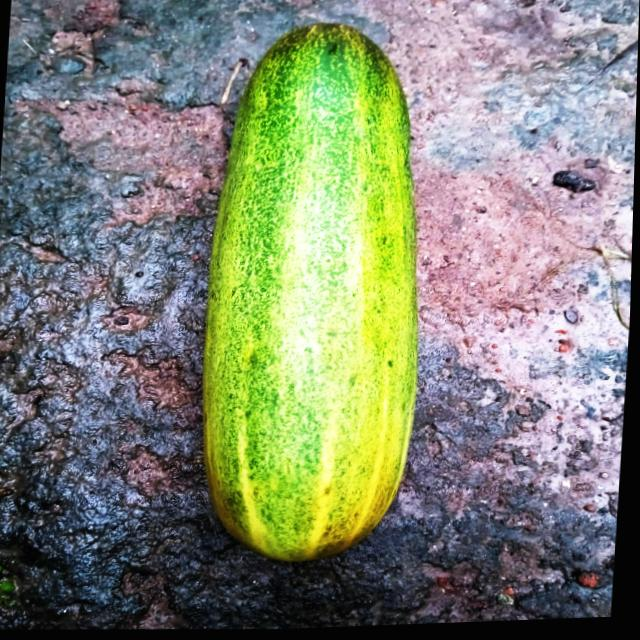Fresh-Cucumber: (187, 13, 441, 576)
